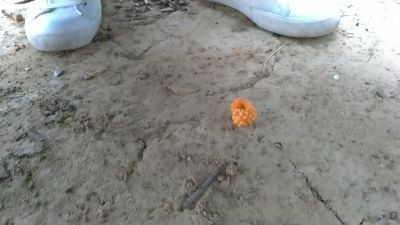eggs: (230, 97, 256, 127)
